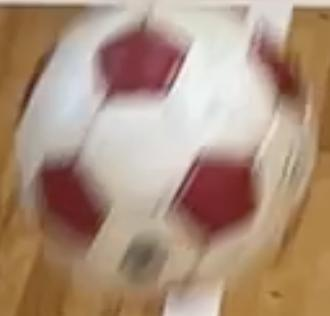Sports-Ball: (30, 9, 282, 262)
